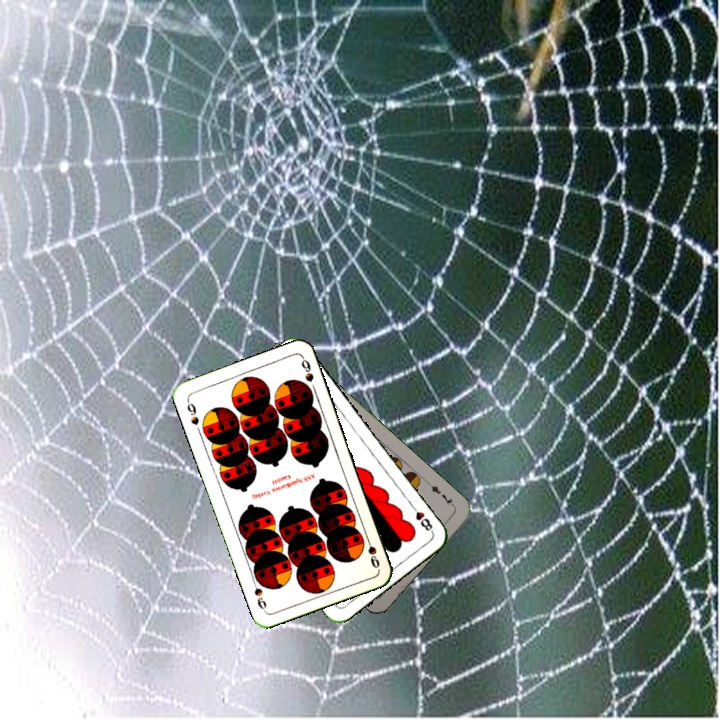E7: (424, 478, 457, 509)
H8: (407, 500, 436, 535)
S9: (361, 531, 382, 571), (183, 396, 202, 428)
